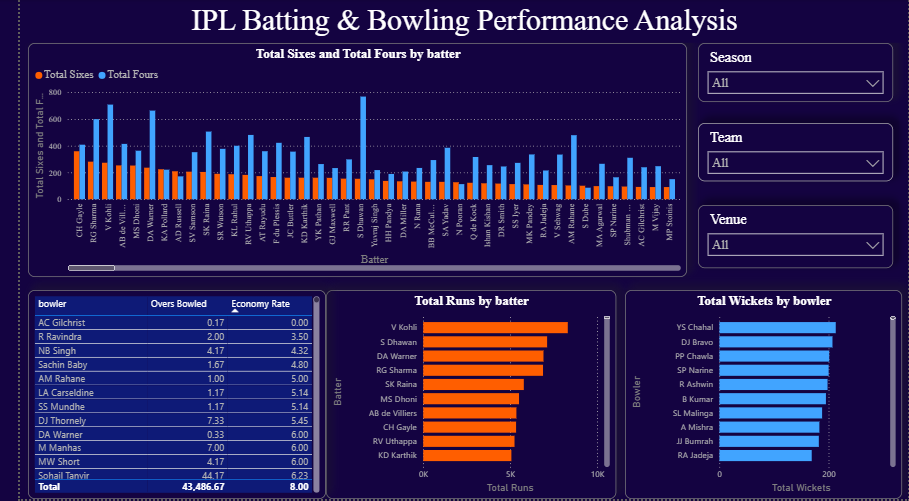

Layout of this report page (visuals, bound fields, positions):
{"tool":"powerbi","page":{"name":"Team & Match Analysis","canvas":[1280,720],"ordinal":1},"visuals":[{"type":"barChart","fields":{"Y":["deliveries.Total Runs"],"Category":["deliveries.batter"]},"box":[440.6,419,417.6,301],"z":1000},{"type":"barChart","fields":{"Y":["deliveries.Total Wickets"],"Category":["deliveries.bowler"]},"box":[871.2,419,398.9,301],"z":2000},{"type":"tableEx","fields":{"Values":["deliveries.bowler","deliveries.Overs Bowled","deliveries.Economy Rate"]},"box":[11.5,419,429.1,301],"z":3000},{"type":"clusteredColumnChart","fields":{"Category":["deliveries.batter"],"Y":["deliveries.Total Sixes","deliveries.Total Fours"]},"box":[11.5,63.4,949,337],"z":4000},{"type":"slicer","fields":{"Values":["matches.season"]},"box":[976.3,63.4,280.8,85],"z":4001},{"type":"slicer","fields":{"Values":["matches.winner"]},"box":[976.3,178.6,280.8,83.5],"z":4002},{"type":"textbox","box":[0,0,1280.2,63.4],"z":4003},{"type":"slicer","fields":{"Values":["matches.venue"]},"box":[976.3,296.6,280.8,90.7],"z":4004}]}

Visuals, with their boxes in screenshot pixels (x1, y1, x2, y2), scaled from the page's 1280x720 canvas onto the 909x501 screenshot:
barChart - deliveries.Total Runs x deliveries.batter: locate(313, 292, 609, 500)
barChart - deliveries.Total Wickets x deliveries.bowler: locate(619, 292, 902, 500)
tableEx - deliveries.bowler x deliveries.Overs Bowled: locate(8, 292, 313, 500)
clusteredColumnChart - deliveries.batter x deliveries.Total Sixes: locate(8, 44, 682, 279)
slicer - matches.season: locate(693, 44, 893, 103)
slicer - matches.winner: locate(693, 124, 893, 182)
textbox: locate(0, 0, 908, 44)
slicer - matches.venue: locate(693, 206, 893, 269)
